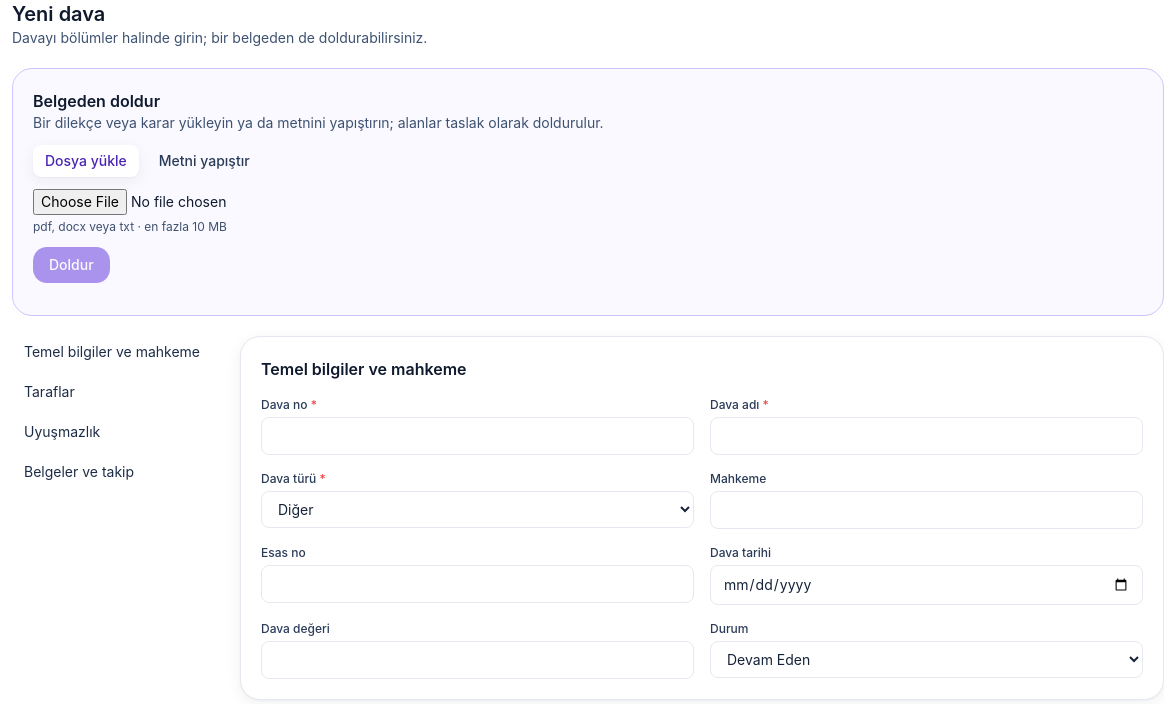
it: NewCaseView › hides the client hint once a client is marked and relabels the positions
This screenshot has width=1164, height=704.
Step 1. Click the tab "Metni yapıştır" → (204, 161), box [147, 145, 262, 177]
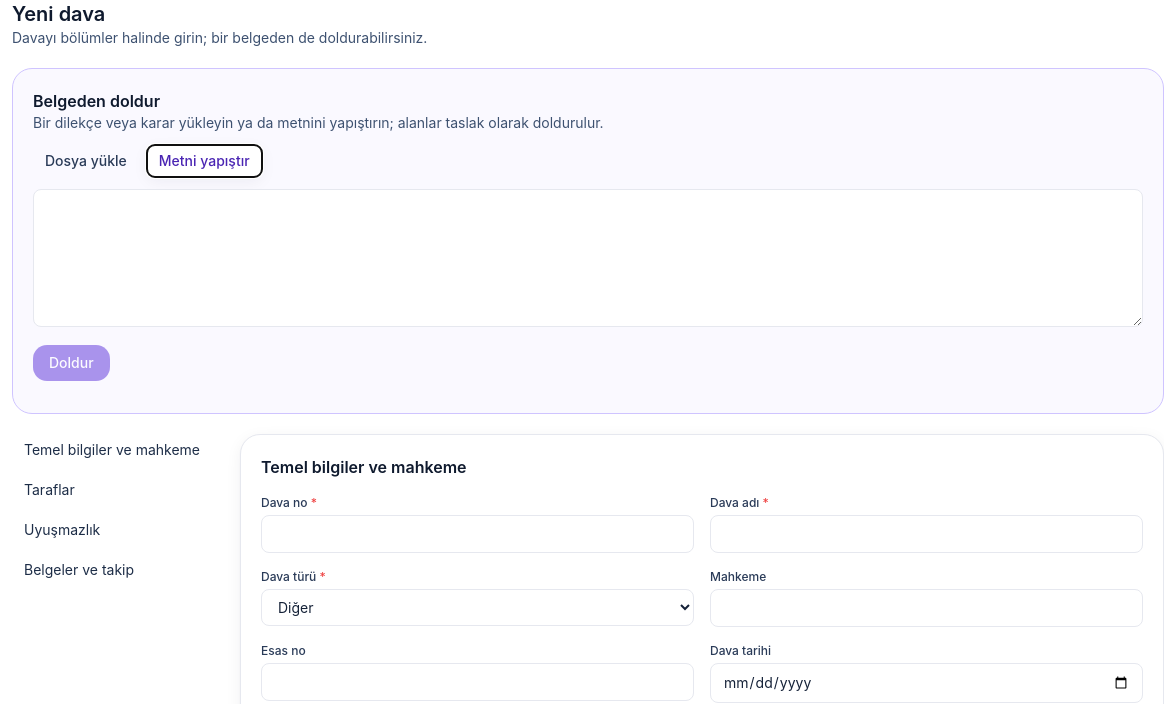
Step 2. Type "dilekçe metni" into the text box named "Belge metni" → (588, 258), box [33, 189, 1143, 327]
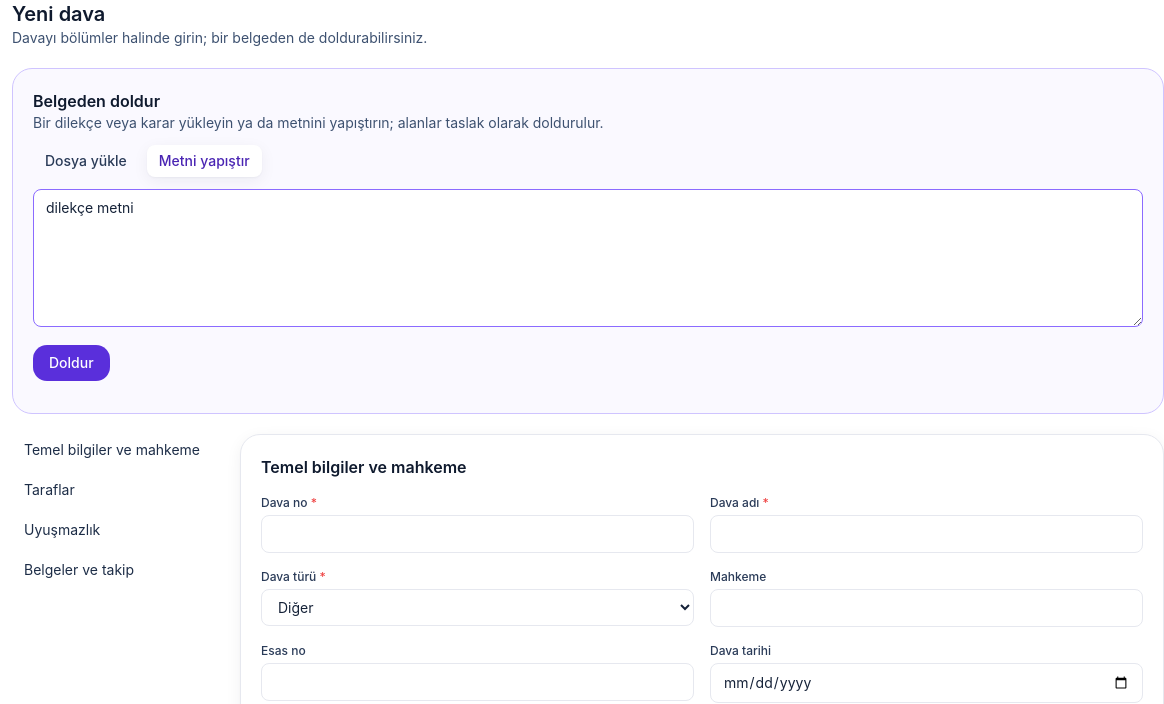
Step 3. Click the button "Doldur" → (71, 363), box [33, 345, 110, 381]
(page scrolled)
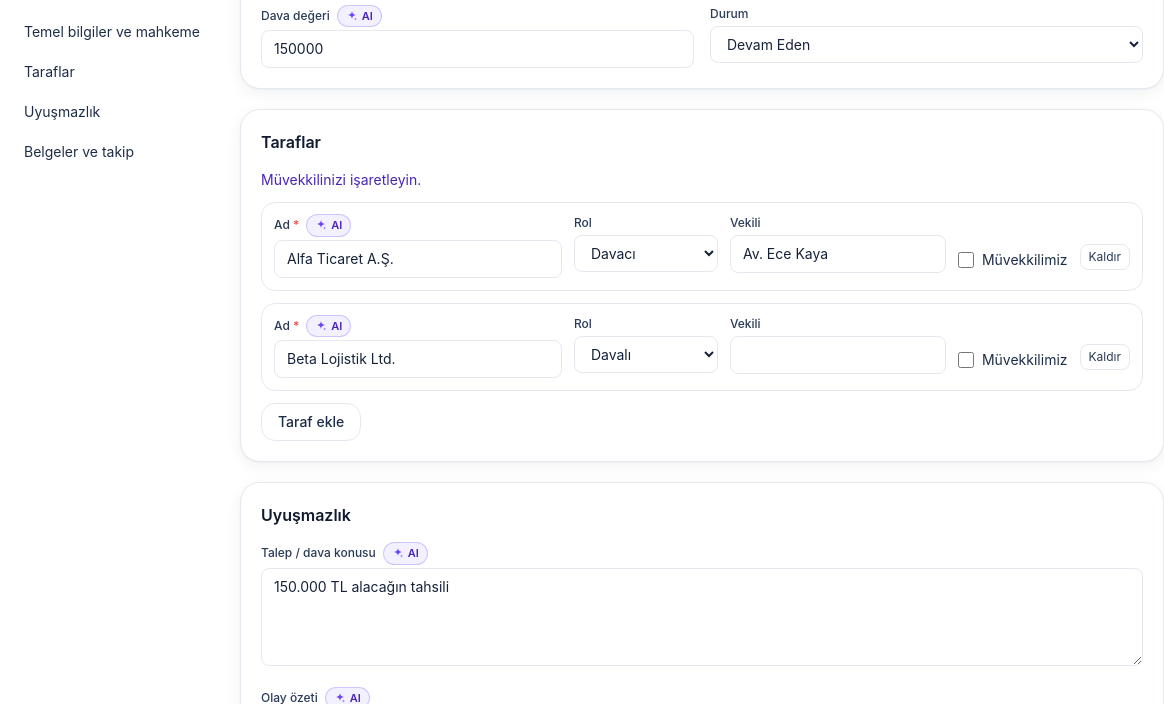
Step 4. Click the 2nd checkbox labelled "Müvekkilimiz" → (966, 360), box [958, 352, 974, 368]
(page scrolled)
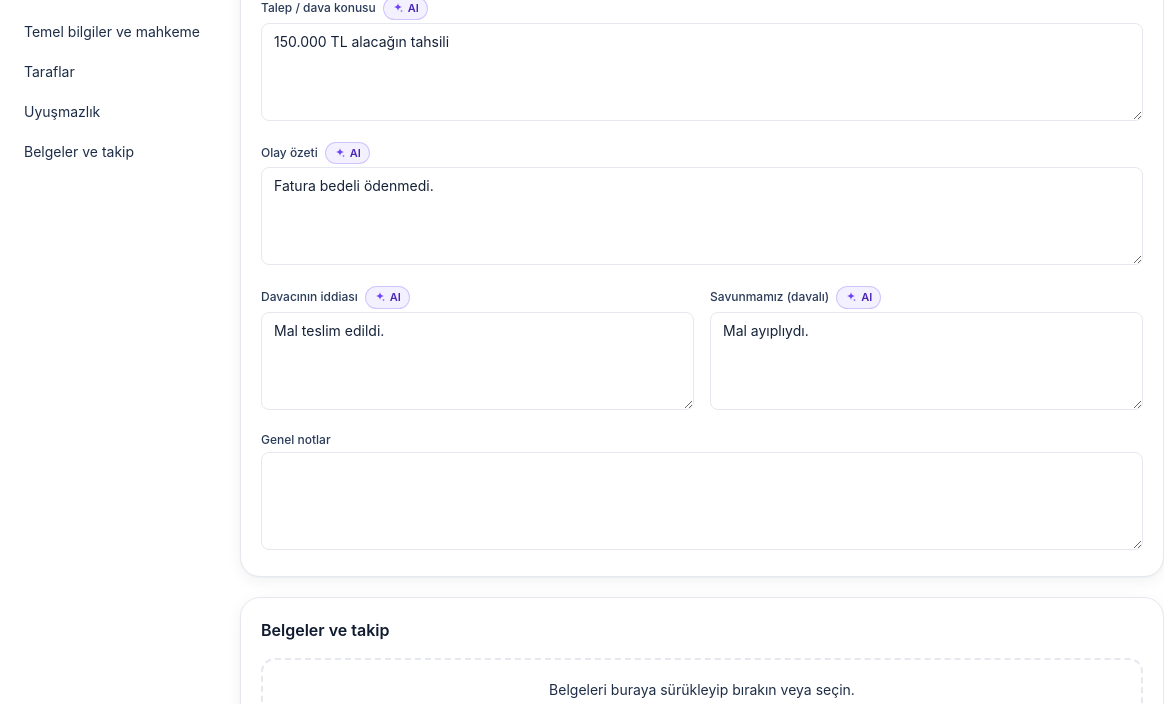
expect the text box labelled "Davacının iddiası" holds "Mal teslim edildi.": met, box [261, 312, 694, 410]
expect the text box labelled "Savunmamız (davalı)" holds "Mal ayıplıydı.": met, box [710, 312, 1143, 410]
expect the text "Müvekkilinizi işaretleyin." is gone: met
